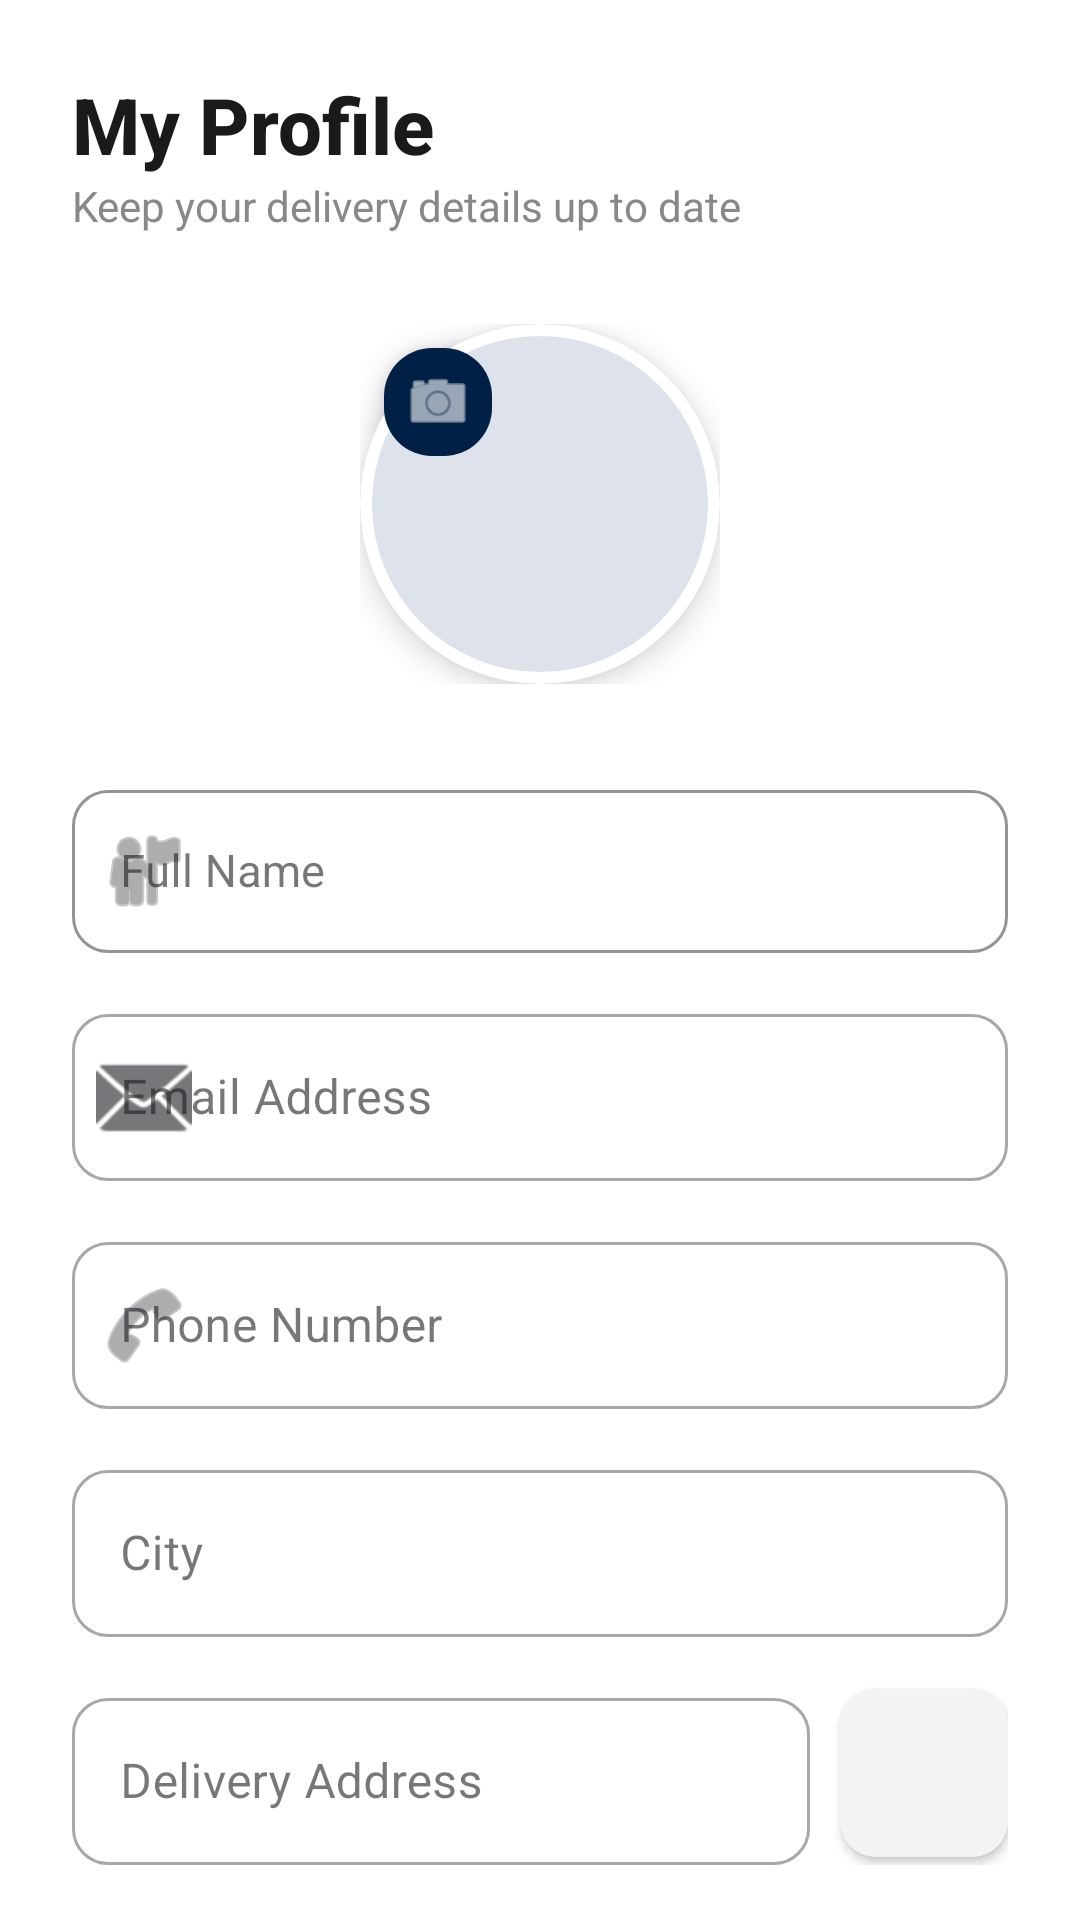

Named icons in this screenshot (1080x1920) and their centers, point (x, y):
camera: point (438, 402)
